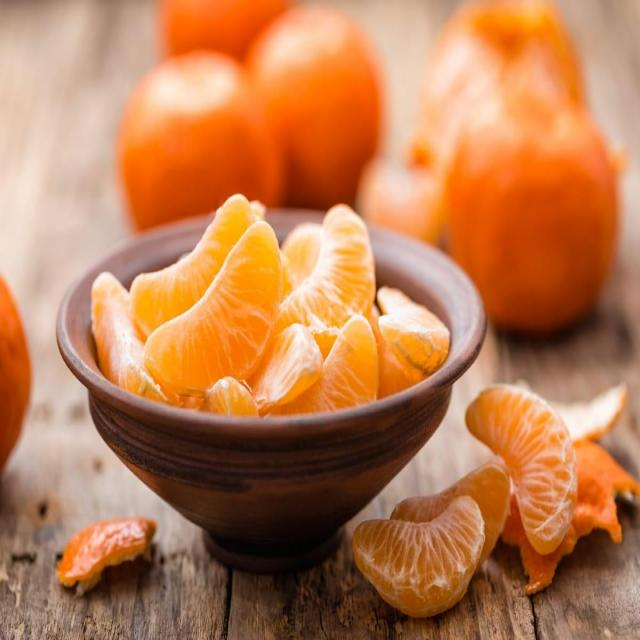10_tangerine: (146, 214, 287, 397), (466, 376, 578, 551), (130, 193, 256, 343), (265, 190, 373, 362), (259, 300, 376, 450), (357, 496, 485, 614), (390, 453, 510, 578), (89, 276, 147, 408), (254, 321, 323, 408)
